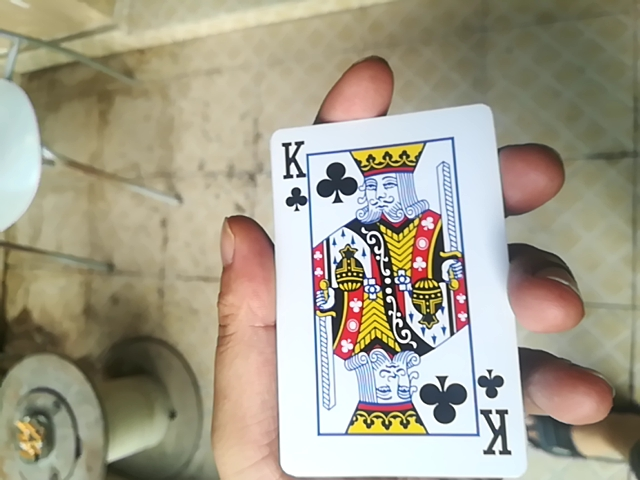mh k: (270, 97, 525, 480)
